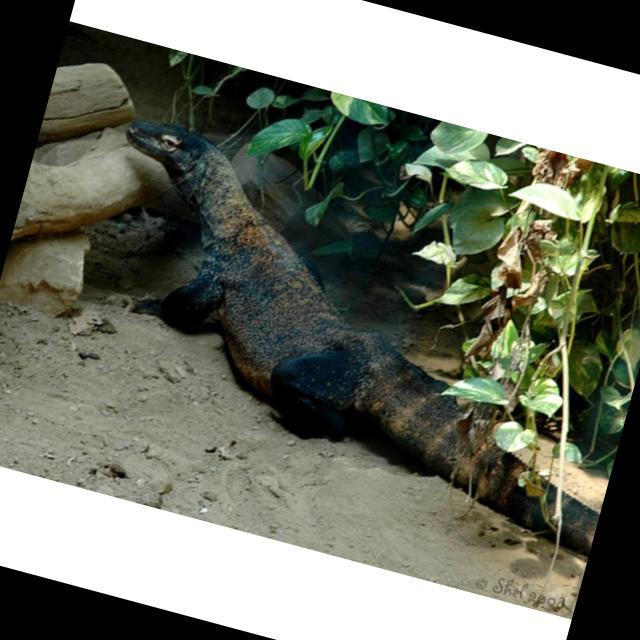KomodoDragon: (46, 108, 640, 555)
